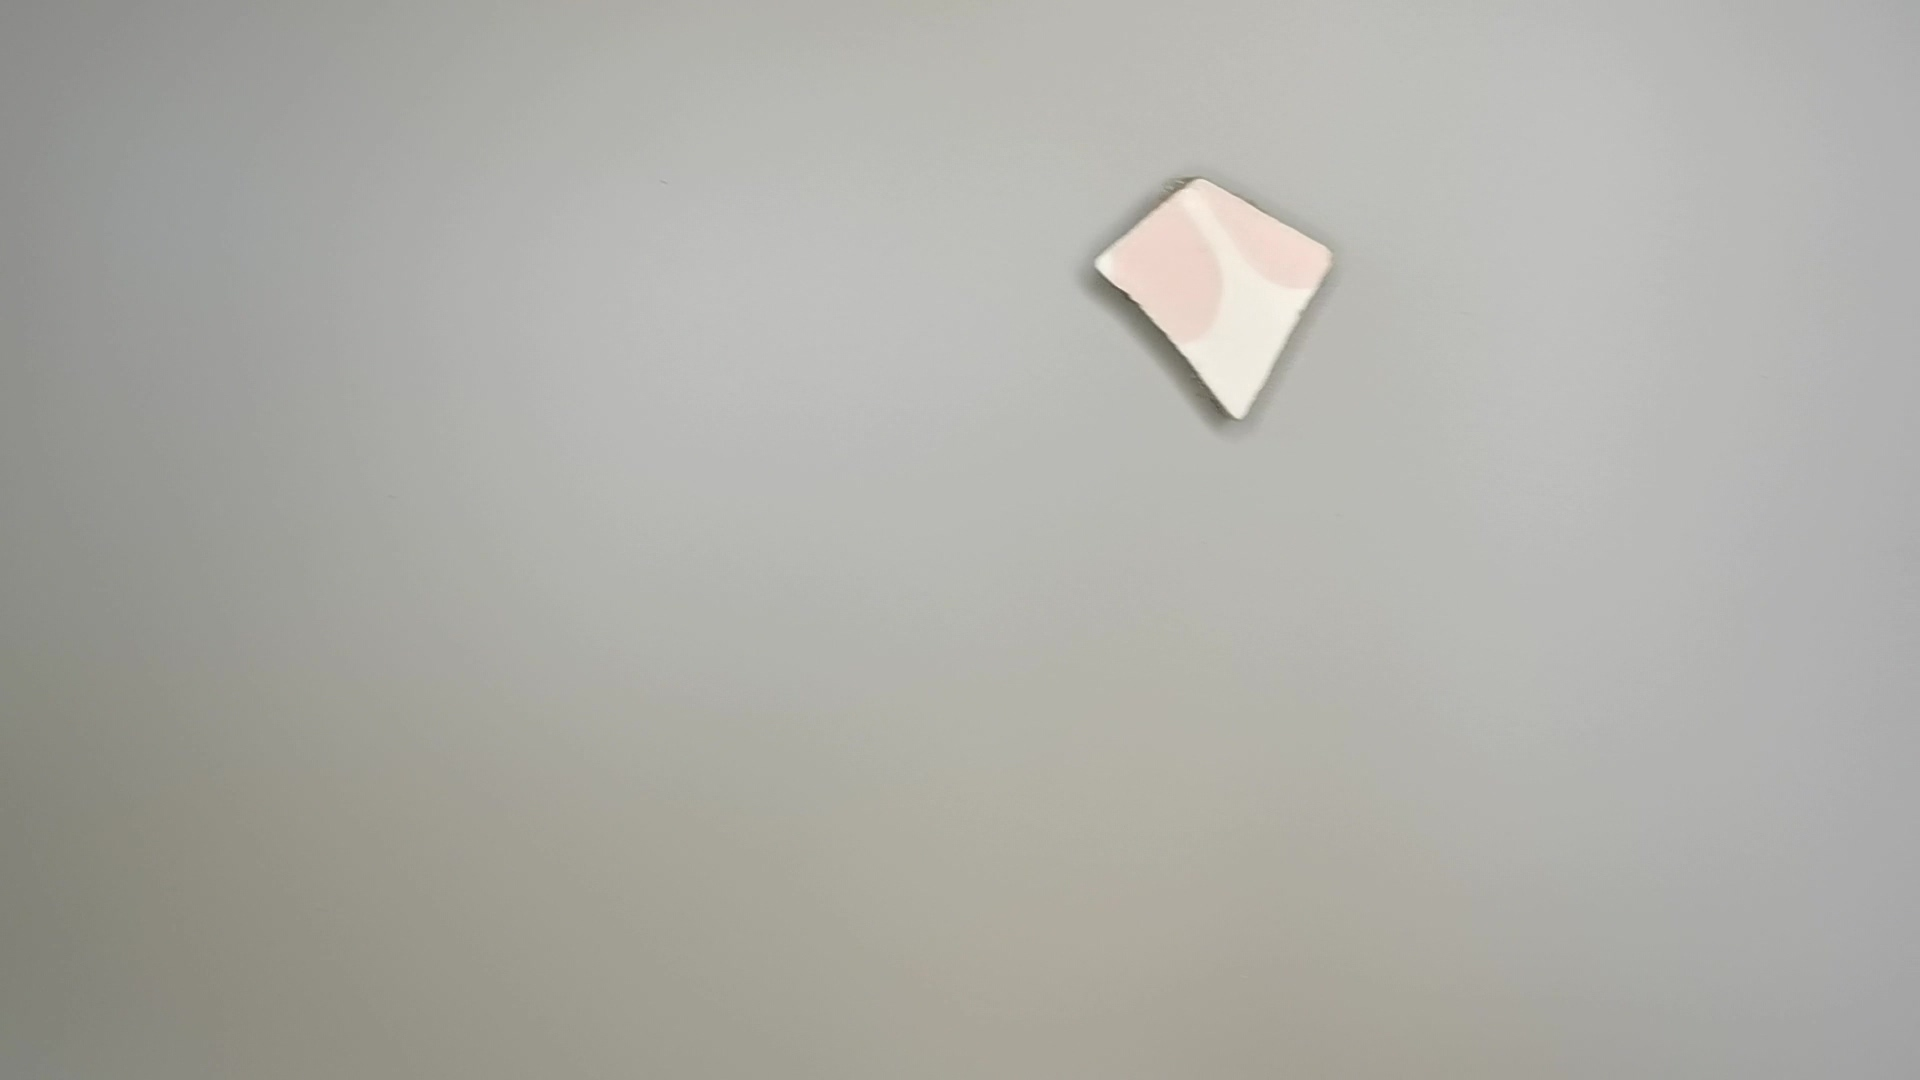ceramic: (1095, 171, 1344, 435)
